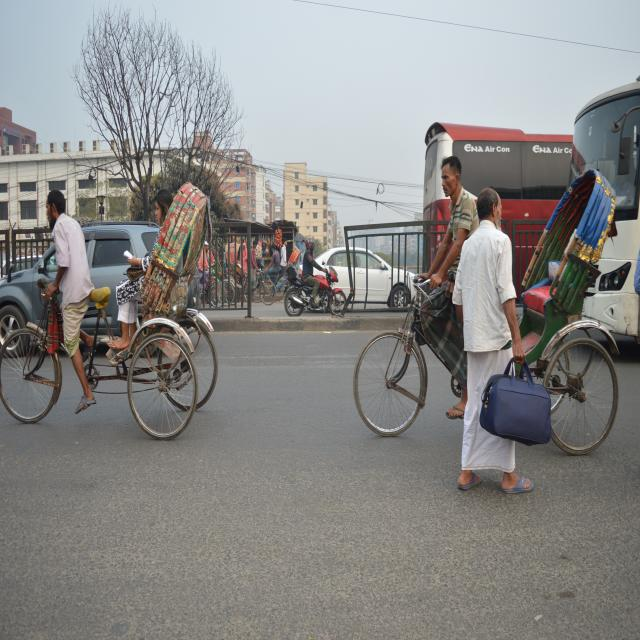bus: (426, 111, 572, 304), (569, 72, 640, 348)
car: (0, 220, 165, 364), (336, 239, 424, 315)
motorbike: (279, 250, 350, 324)
